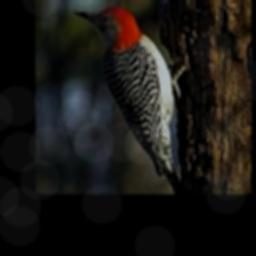Woodpecker: (74, 5, 184, 194)
